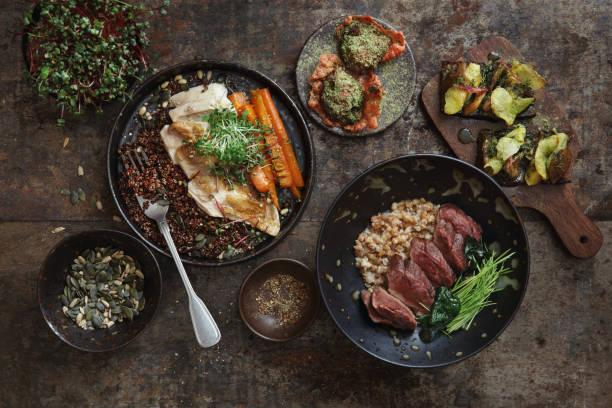Braised Crucian Carp: (315, 154, 523, 368), (104, 59, 307, 266), (431, 45, 578, 212), (295, 15, 416, 138)
